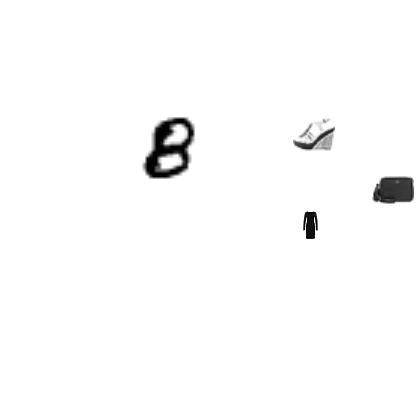8: (125, 106, 209, 190)
Bag: (372, 169, 414, 211)
Dress: (296, 211, 324, 239)
Sandal: (293, 113, 335, 155)
